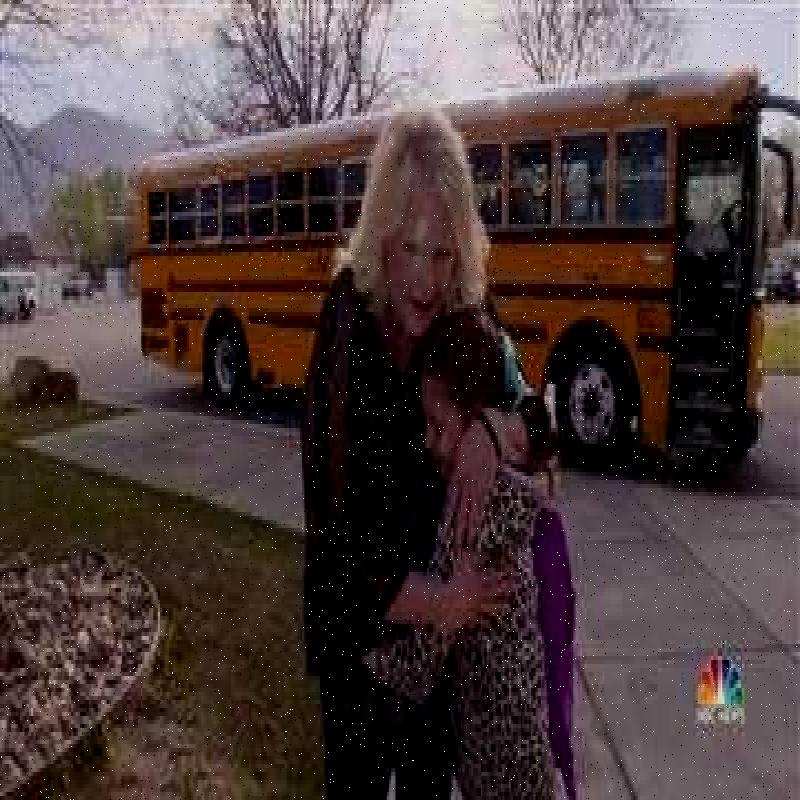bus: (139, 96, 774, 485)
